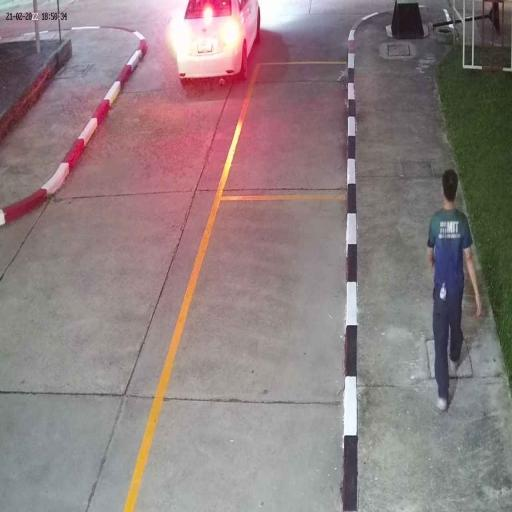car: (172, 0, 264, 87)
